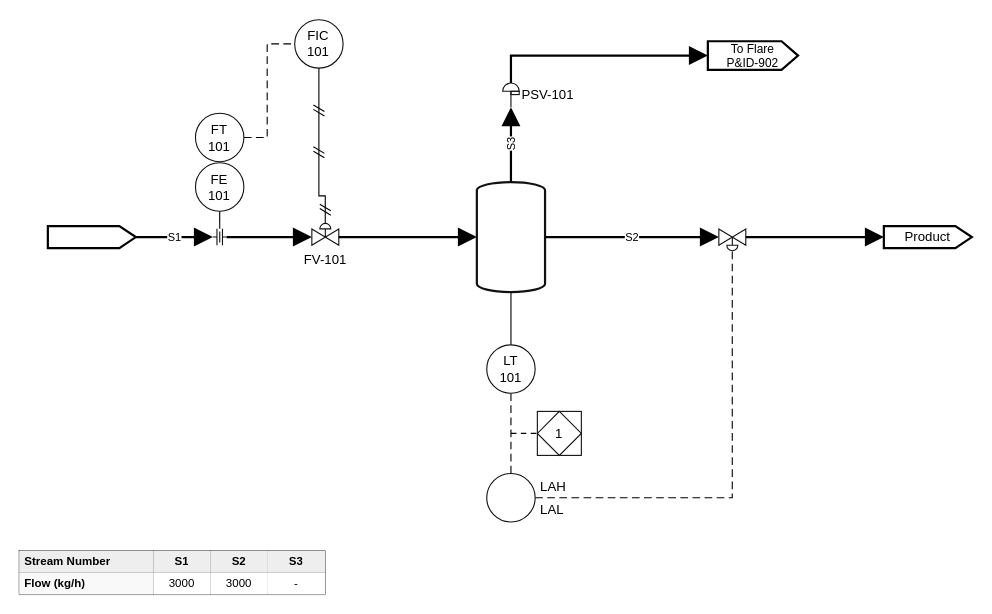
The diagram is 992 pixels wide and 614 high, and some of its shapes have lost their labels. Each missing label, with the centre of its shape:
"Feed" belongs at point 91,236.
"LIC 101" belongs at point 510,497.
"LV-101" belongs at point 732,239.
"V-101" belongs at point 510,236.
